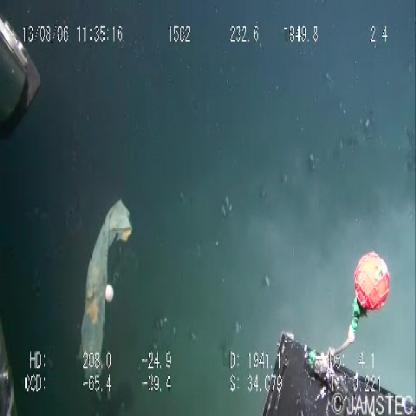Rov: (239, 226, 416, 414), (1, 14, 48, 145)
Rác: (72, 190, 143, 408)
